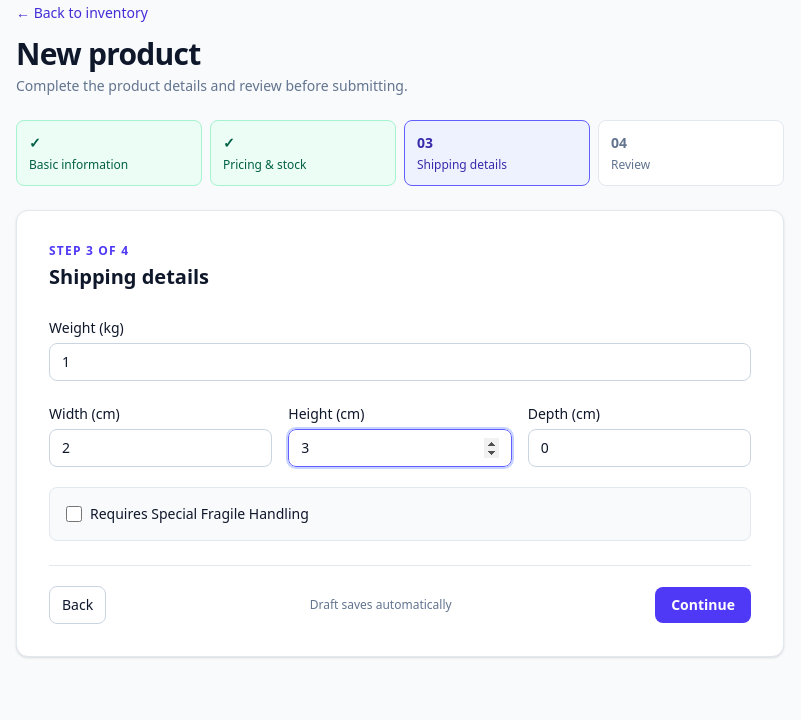
submits all wizard steps through the real RTK Query mutation intercepted by MSW
Earlier steps of the test are not shown.
Replace the text in the number field labelled "Depth (cm)" with "4" at (639, 448), box [528,429,751,467]
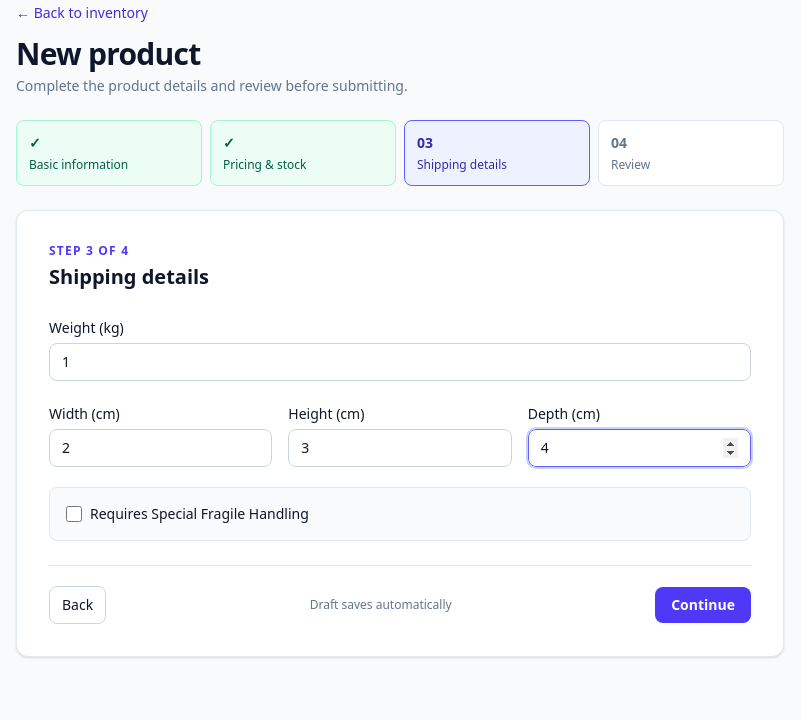
Click the checkbox labelled "Requires Special Fragile Handling" at (74, 514), box [66,506,82,522]
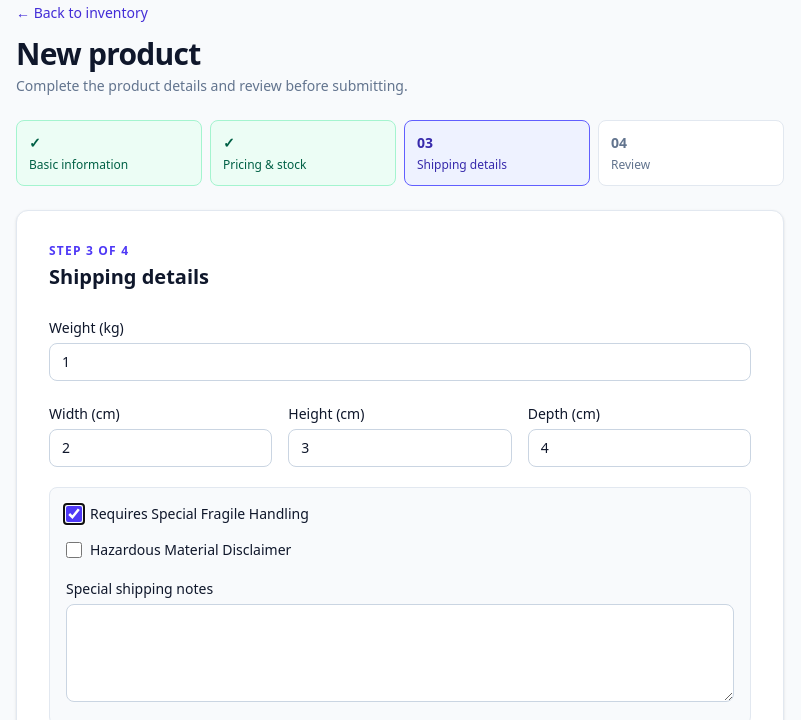
Click the checkbox labelled "Hazardous Material Disclaimer" at (74, 550), box [66,542,82,558]
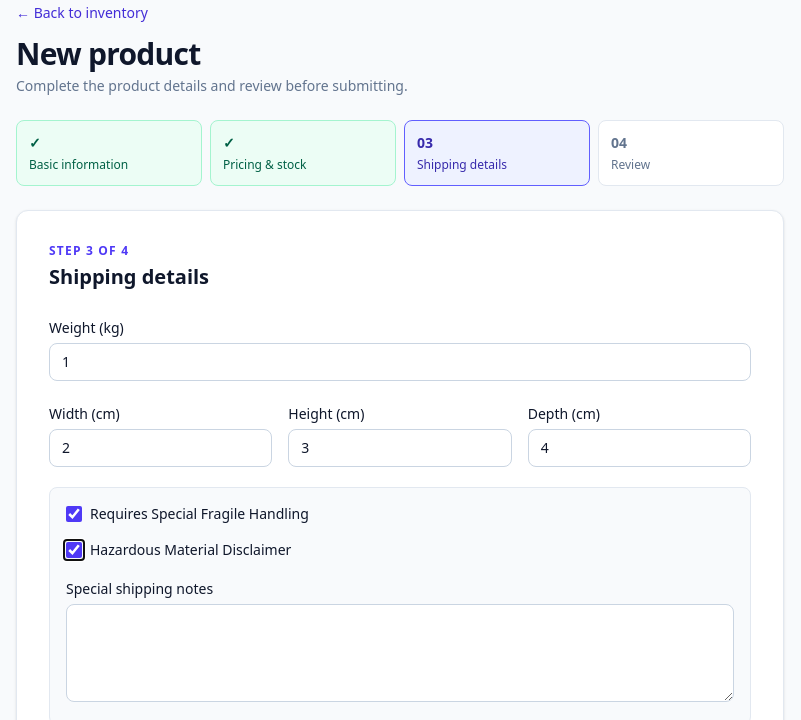
Type "Handle with care" into the text box labelled "Special shipping notes" at (400, 653), box [66,604,734,702]
(page scrolled)
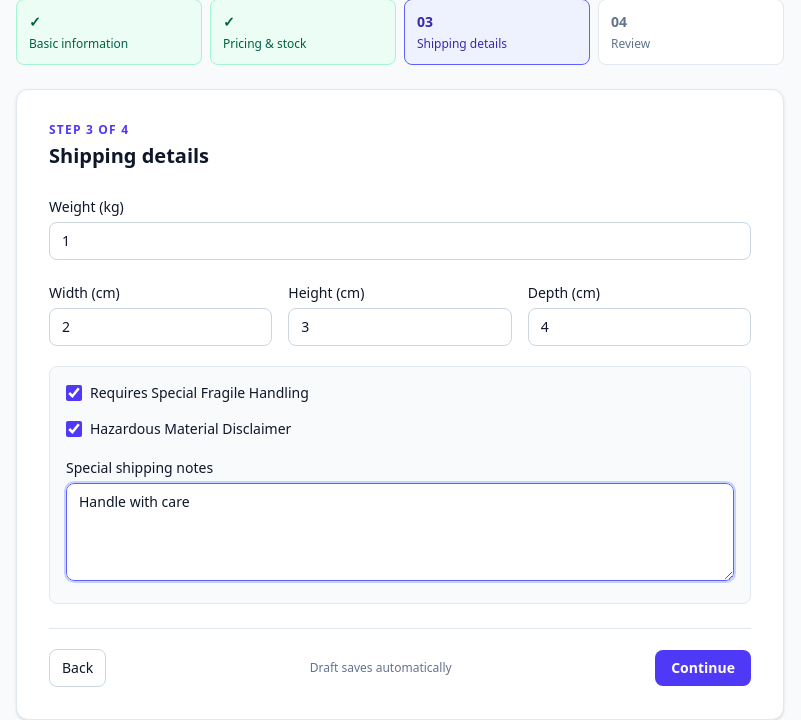
Click the button "Continue" at (703, 668), box [655,650,751,686]
(page scrolled)
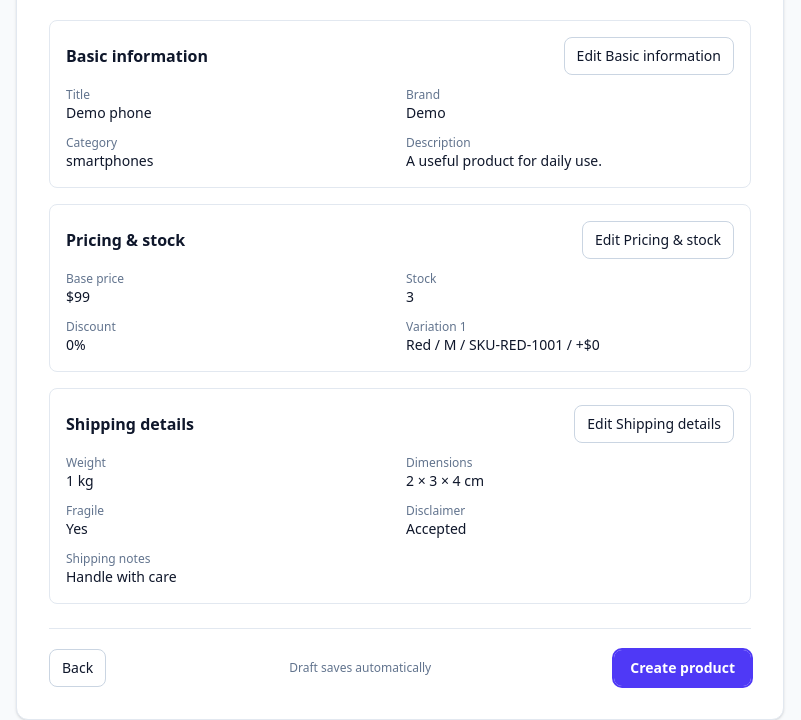
Click the button "Create product" at (683, 668), box [614,650,751,686]
(page scrolled)
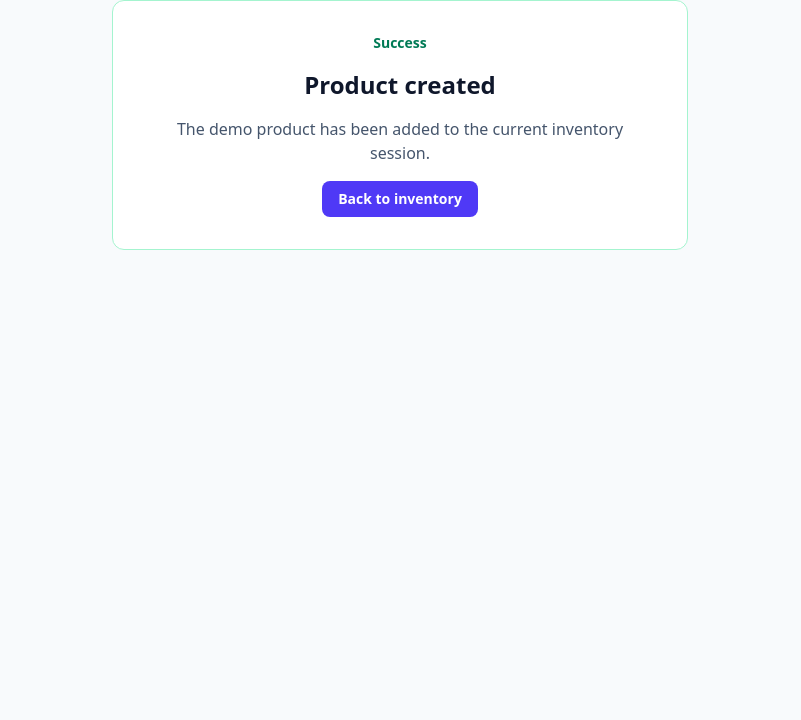
expect the heading "Product created" is shown: met, box [304,68,496,101]
